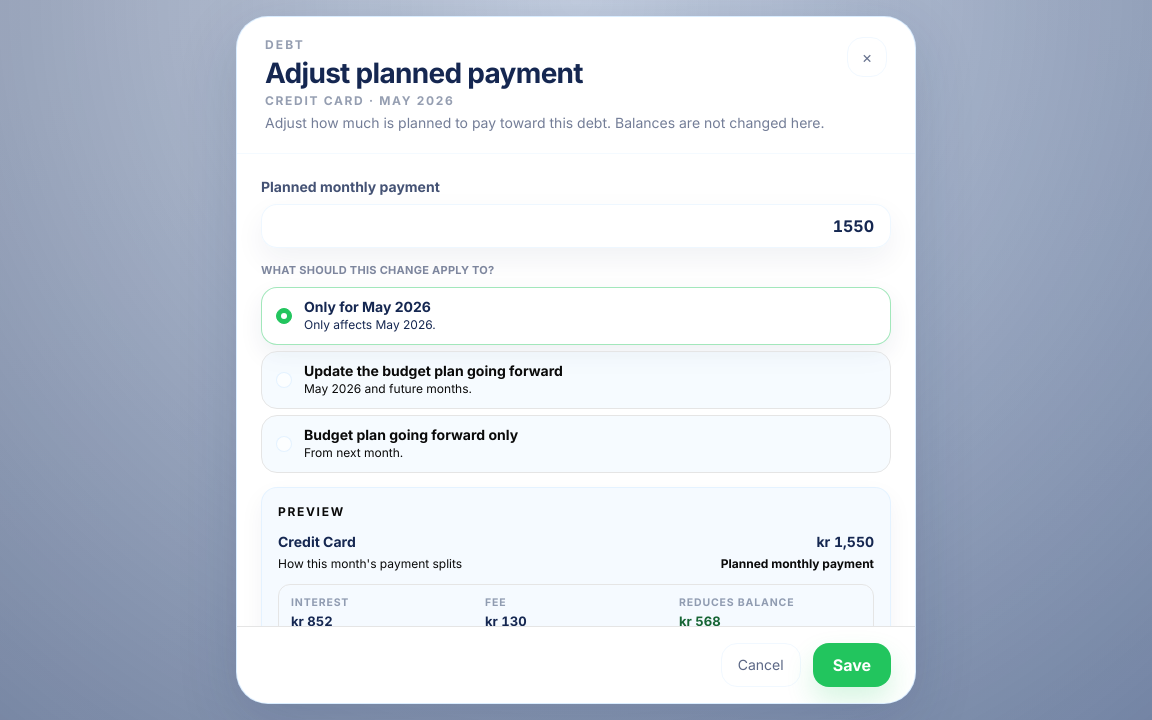
Test: DebtPlannedPaymentModal › recomputes the preview when the planned payment changes so the user sees the new principal before save
This screenshot has width=1152, height=720.
Expected: the text with test id "debt-planned-payment-preview-interest" shows "852", [291, 613, 332, 626]
Expected: the text with test id "debt-planned-payment-preview-principal" shows "568", [679, 613, 720, 626]
# Drop payment so it cannot cover interest + fee — advisory should appear.
Replace the text in the field labelled "Planned monthly payment" with "500". click: (576, 226)
box: [261, 204, 891, 248]
(page scrolled)
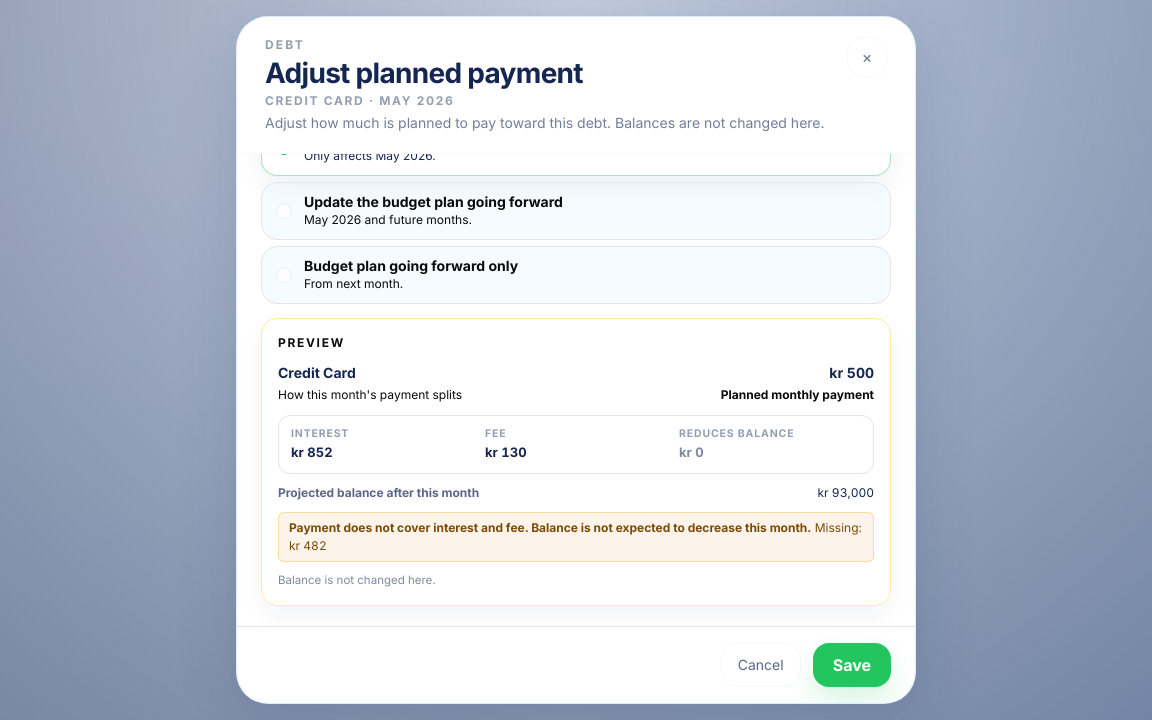
Now the element with test id "debt-planned-payment-preview-shortfall" shows "does not cover interest and fee", box [289, 520, 811, 535]
